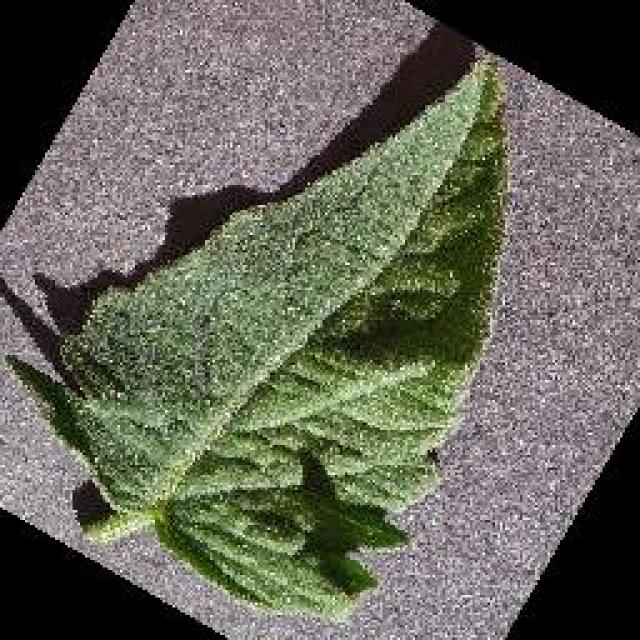Tomato___healthy: (5, 52, 516, 622)
